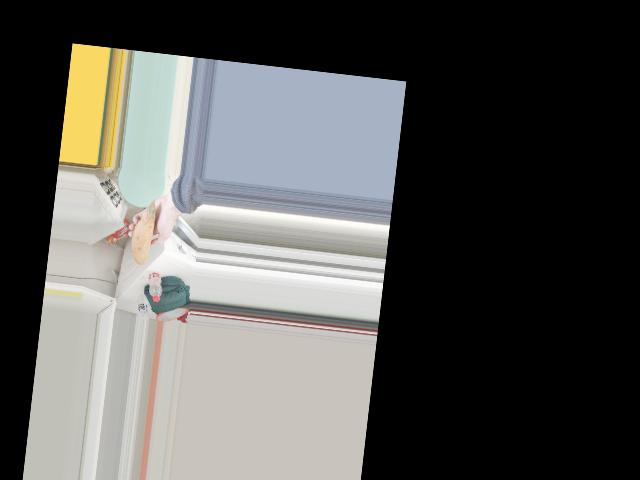sweet_potato: (129, 201, 157, 259)
